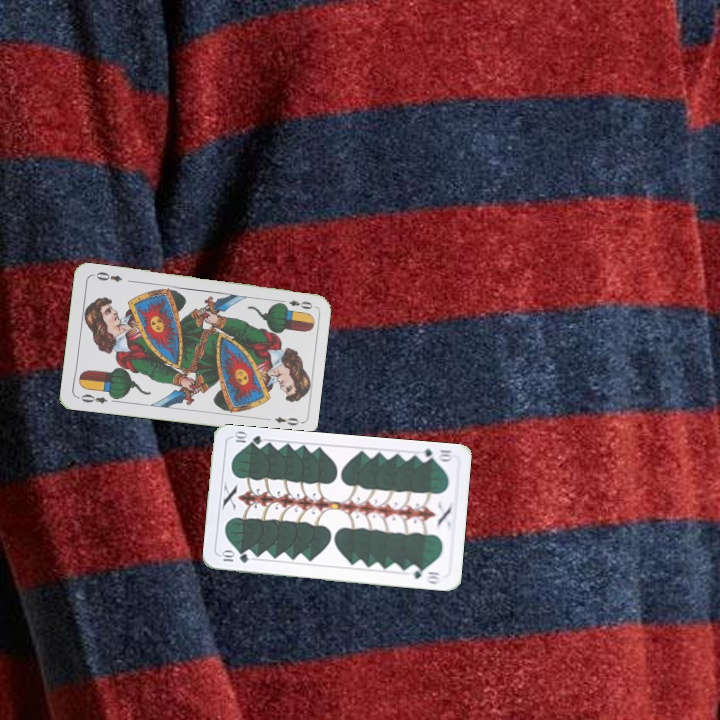EO: (275, 296, 315, 312), (74, 390, 110, 406)
G10: (414, 445, 455, 465), (217, 548, 251, 565)
